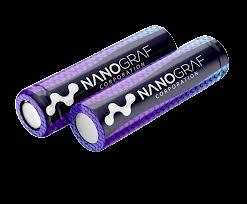Battery: (69, 37, 230, 152), (15, 26, 177, 138)
